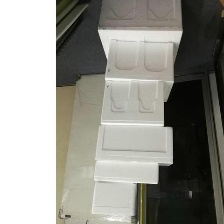foam_box: (95, 0, 186, 64), (101, 37, 178, 106), (92, 122, 177, 169), (97, 77, 169, 128), (90, 157, 162, 186), (89, 178, 140, 218)
